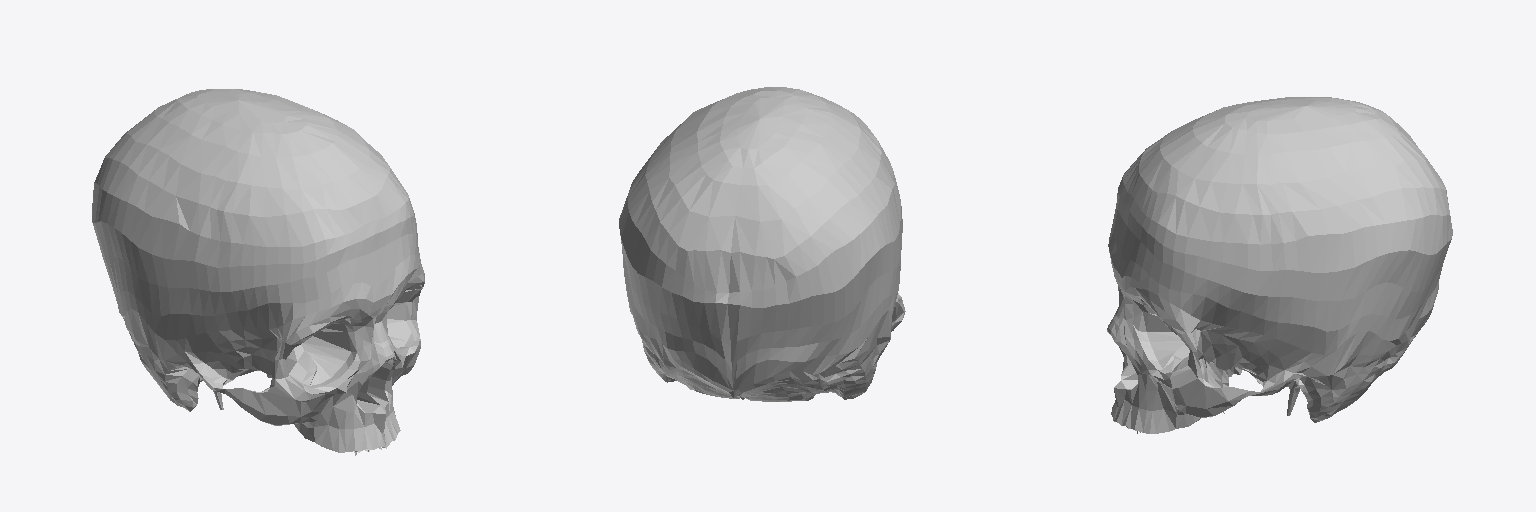
File: skull_scene4.obj
3 renders of one model, left to right at view 1: azimuth 30°, elevation 25°; view 2: azimuth 150°, elevation 25°; view 3: azimuth 270°, elevation 25°, orthographic.
Parts seen in each view (by area): view 1: skull_scene4; view 2: skull_scene4; view 3: skull_scene4.
Boxes of the visible parts, x1=… form: skull_scene4: x1=92, y1=89, x2=424, y2=455; skull_scene4: x1=619, y1=87, x2=905, y2=401; skull_scene4: x1=1107, y1=97, x2=1452, y2=433.
Bounding box in the file's own units: 5.23 × 5.78 × 6.14.